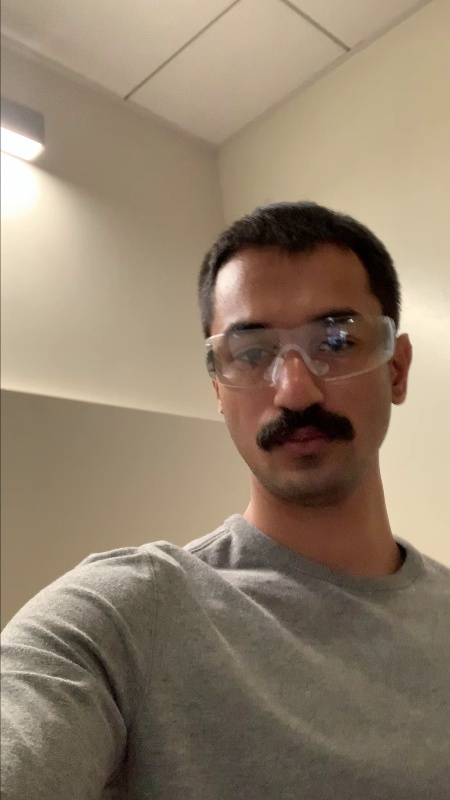glasses: (208, 310, 394, 392)
